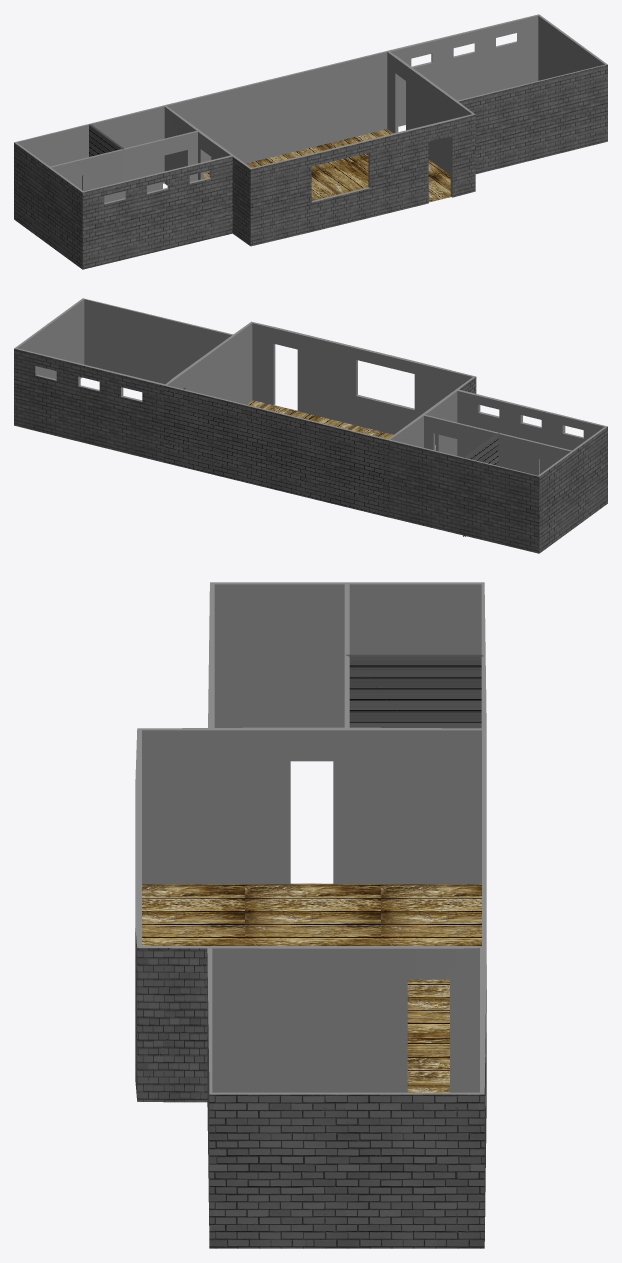
Rendered from TutorialBarFBX.FBX.
The picture shows the model from 3 angles, top to bottom: view 1: azimuth 30°, elevation 25°; view 2: azimuth 150°, elevation 25°; view 3: azimuth 270°, elevation 25°; orthographic projection. The views are drawn at different scales.
Parts seen in each view (by area): view 1: Bar; view 2: Bar; view 3: Bar.
Part boxes in pixels (box(x1,y1,x2,y2)): Bar: box(14, 14, 607, 269); Bar: box(14, 298, 607, 553); Bar: box(135, 582, 486, 1248).
Bounding box in the file's own units: 178 × 25.71 × 51.71.
Materials: 8 (2 with a texture image).
